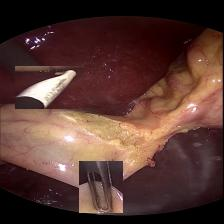Grasper: (80, 160, 124, 212)
Hook: (15, 65, 85, 108)
